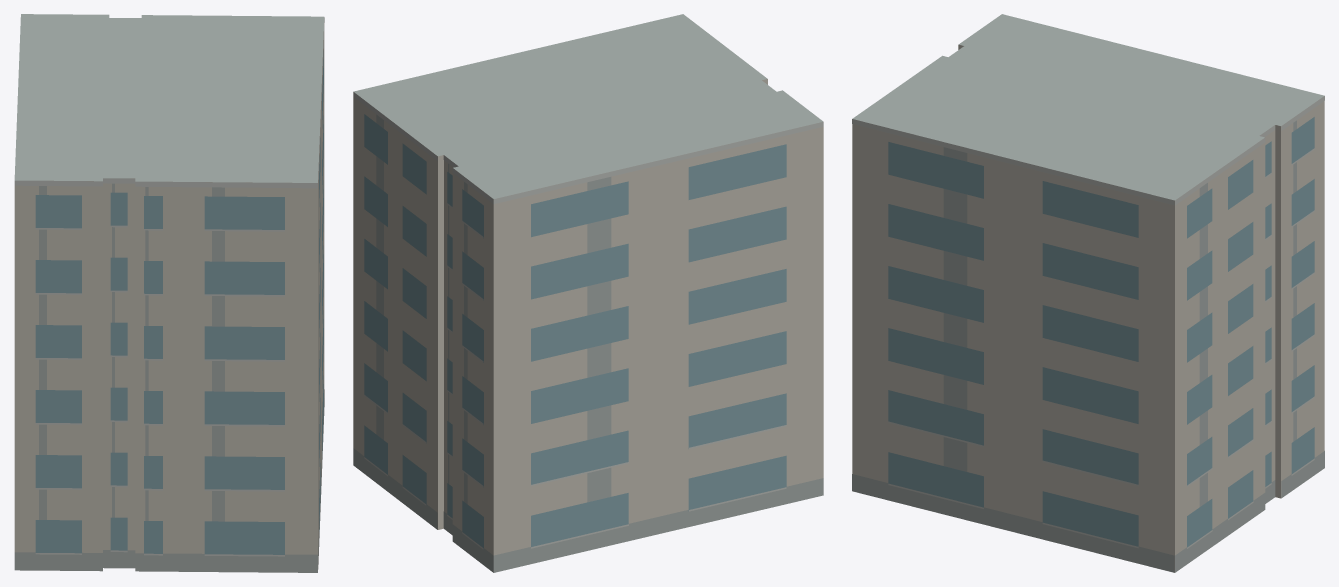
The model's file is survey-upis-33045153.glb.
The picture shows the model from 3 angles, left to right: view 1: azimuth 30°, elevation 25°; view 2: azimuth 150°, elevation 25°; view 3: azimuth 270°, elevation 25°; orthographic projection. The views are drawn at different scales.
Visible parts, largest first — view 1: survey-upis-33045153.tmp; view 2: survey-upis-33045153.tmp; view 3: survey-upis-33045153.tmp.
Part boxes in pixels (<box>): survey-upis-33045153.tmp: <box>14,14,324,572</box>; survey-upis-33045153.tmp: <box>353,14,823,572</box>; survey-upis-33045153.tmp: <box>852,14,1324,572</box>.
Size of the model in its own units: 19.35 by 18 by 20.71.
